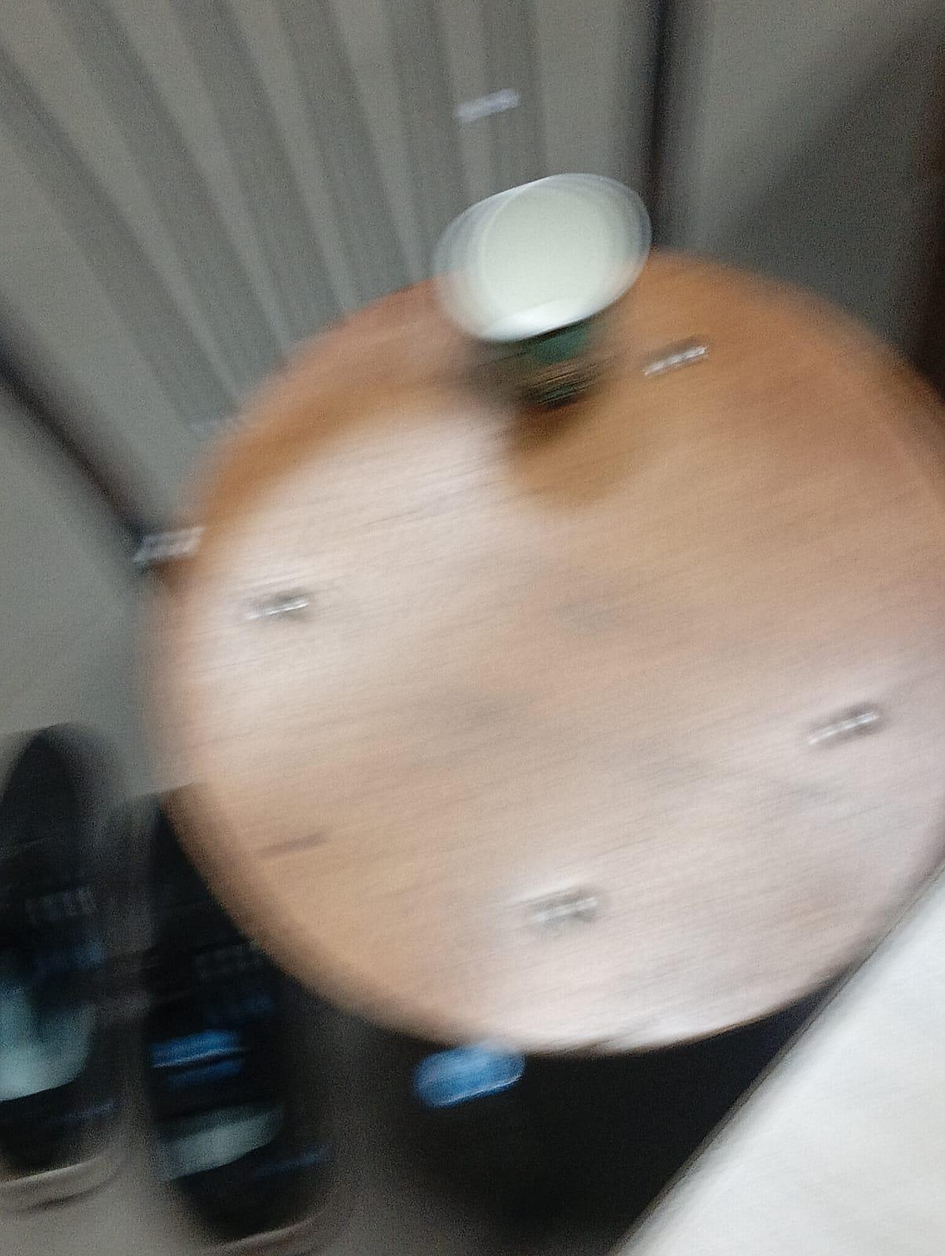cup: (436, 174, 649, 405), (454, 189, 614, 312)
